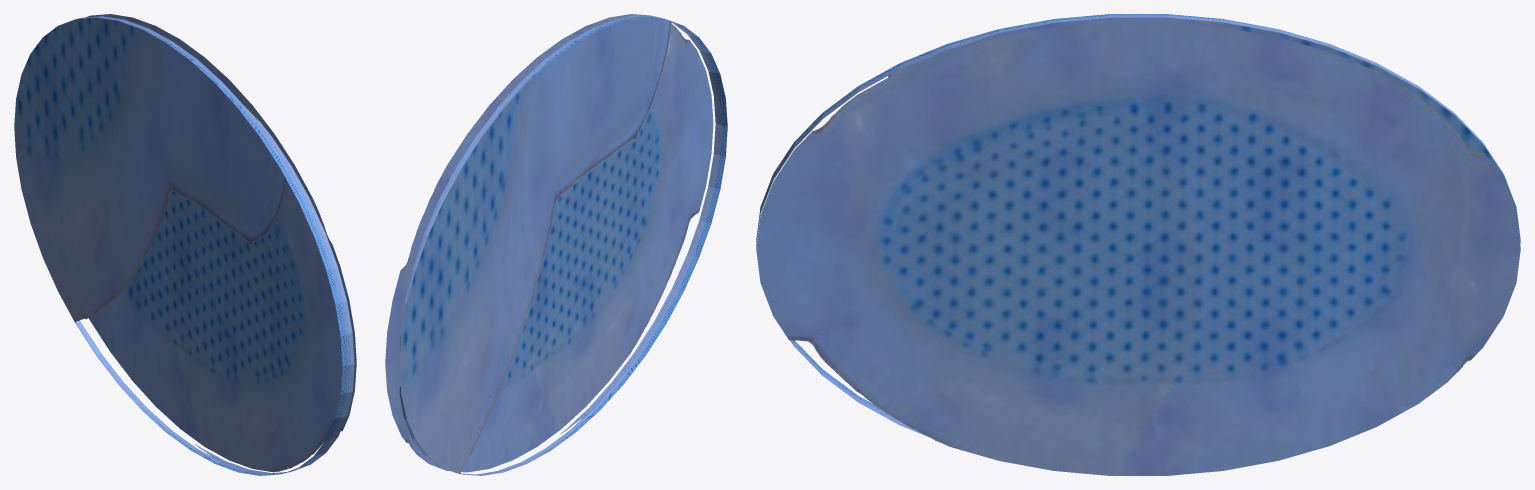
Rendered from Hidrojel 1.fbx.
The picture shows the model from 3 angles, left to right: view 1: azimuth 30°, elevation 25°; view 2: azimuth 150°, elevation 25°; view 3: azimuth 270°, elevation 25°; orthographic projection. The views are drawn at different scales.
Visible parts, largest first — view 1: Cylinder; view 2: Cylinder; view 3: Cylinder.
Part boxes in pixels (x1,y1,x2,y2): Cylinder: (14,14,356,475); Cylinder: (385,14,727,475); Cylinder: (756,14,1520,475).
Size of the model in its own units: 2.39 by 62.18 by 94.95.
1 material, 1 textured.
